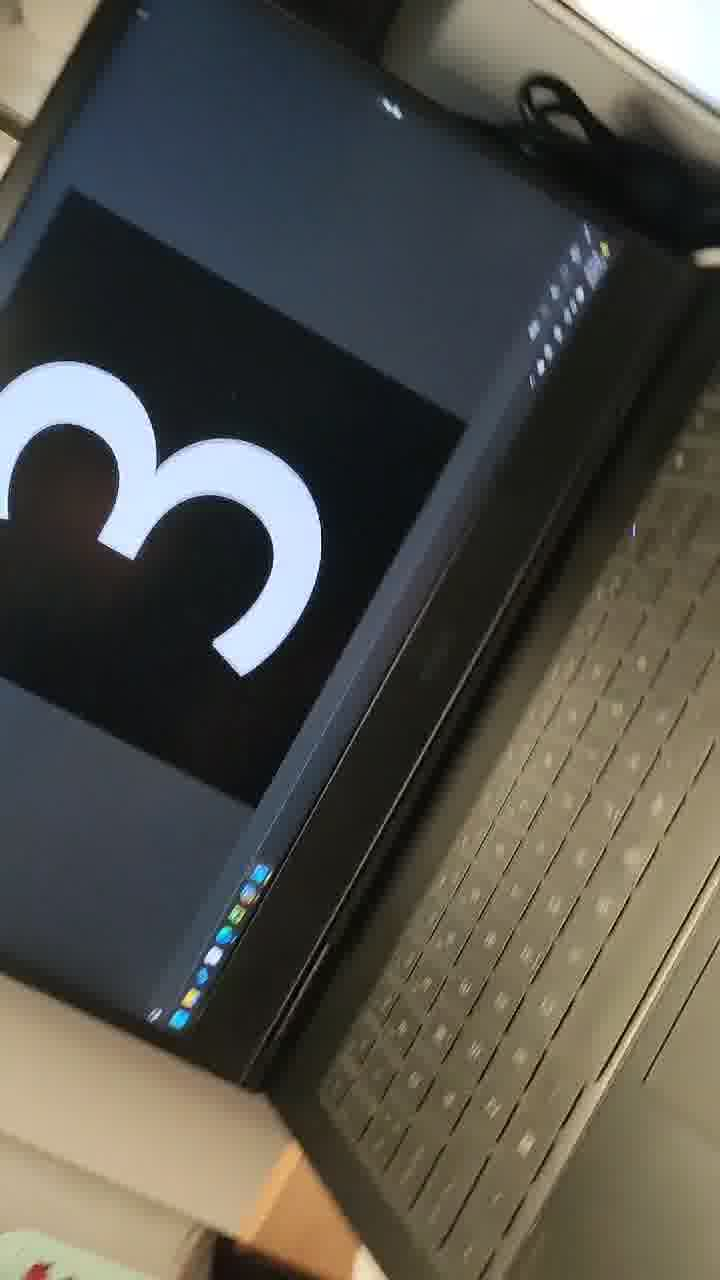three: (1, 192, 470, 794)
